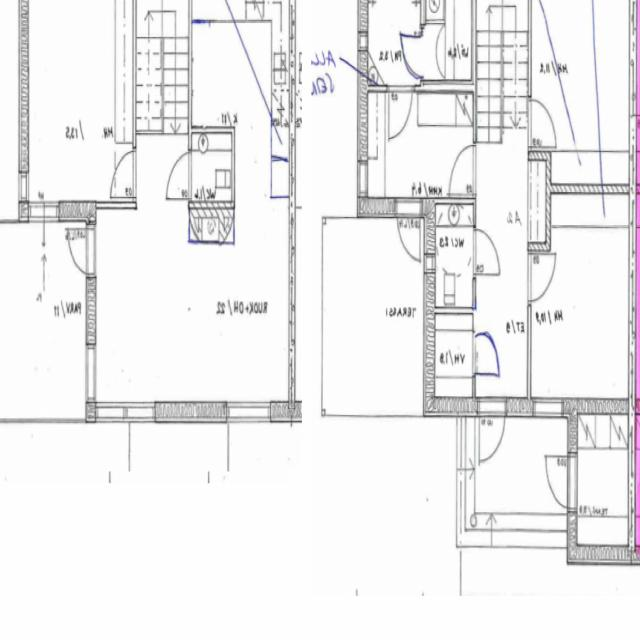door: (540, 454, 578, 510), (480, 397, 506, 469), (397, 198, 422, 268), (64, 227, 96, 275), (528, 254, 556, 302), (449, 145, 476, 194), (527, 100, 555, 146), (388, 85, 412, 138), (110, 152, 137, 197), (473, 230, 499, 274), (166, 154, 192, 198), (401, 36, 426, 77), (473, 332, 496, 373)
